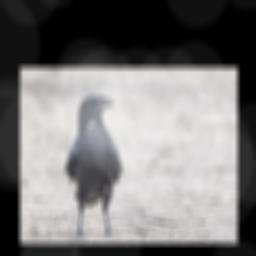Crow: (64, 94, 125, 239)
